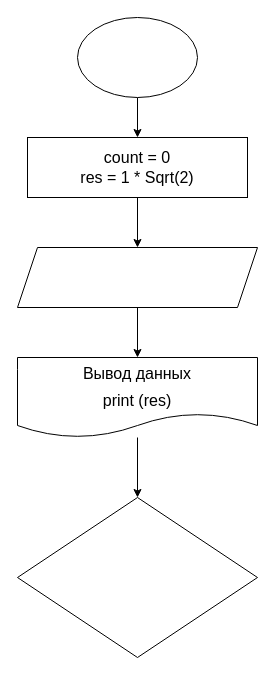
Image size: 275x675. Some labels were removed from this diagram. Each missing label, with the centre of its shape:
start: (x=137, y=57)
Ввод данных Count: (x=137, y=277)
